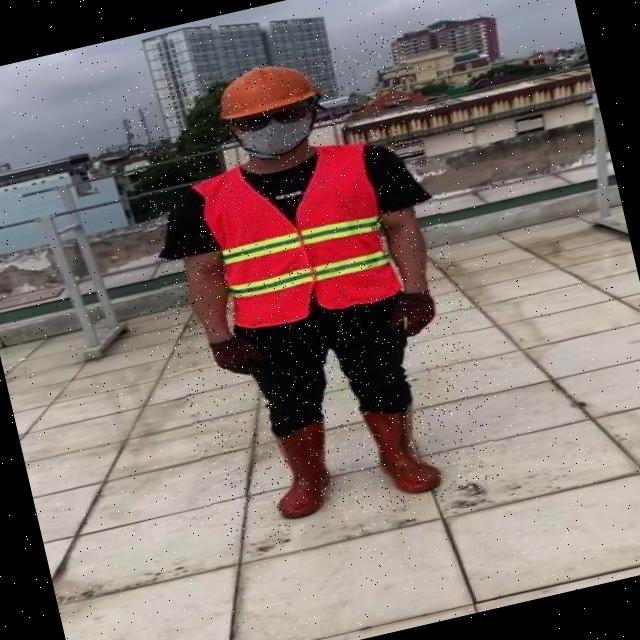boots: (359, 396, 448, 503), (262, 419, 342, 522)
helmet: (207, 53, 325, 125)
vest: (189, 138, 404, 340)
